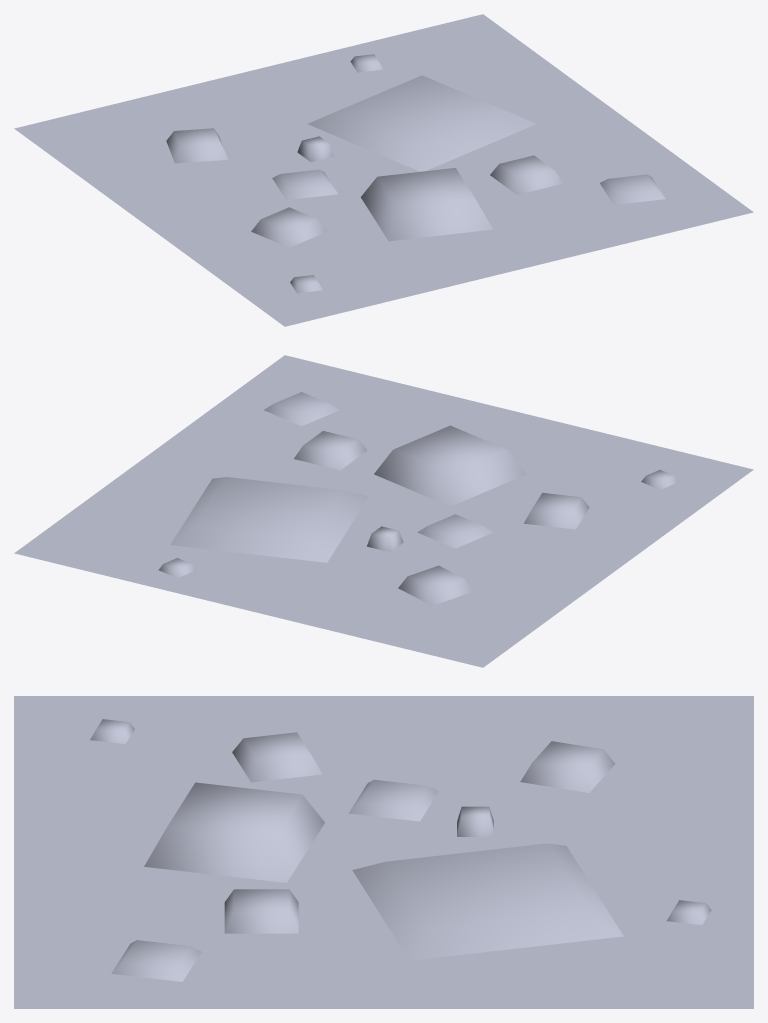
Rendered from floor-detail.dae.
3 renders of one model, top to bottom at view 1: azimuth 30°, elevation 25°; view 2: azimuth 150°, elevation 25°; view 3: azimuth 270°, elevation 25°, orthographic. The views are drawn at different scales.
Parts seen in each view (by area): view 1: floor-detail; view 2: floor-detail; view 3: floor-detail.
Part boxes in pixels (box(x1,y1,x2,y2)): floor-detail: box(14, 14, 753, 326); floor-detail: box(14, 355, 753, 667); floor-detail: box(14, 696, 753, 1008).
Size of the model in its own units: 1 by 0.05 by 1.
